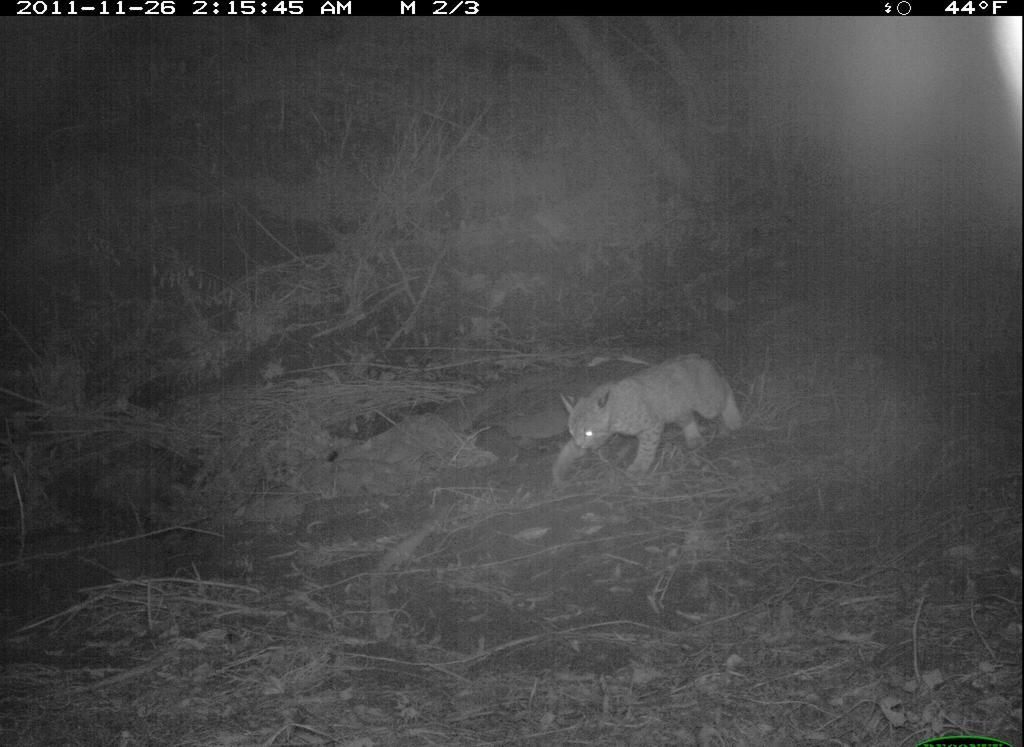bobcat: (541, 349, 751, 489)
